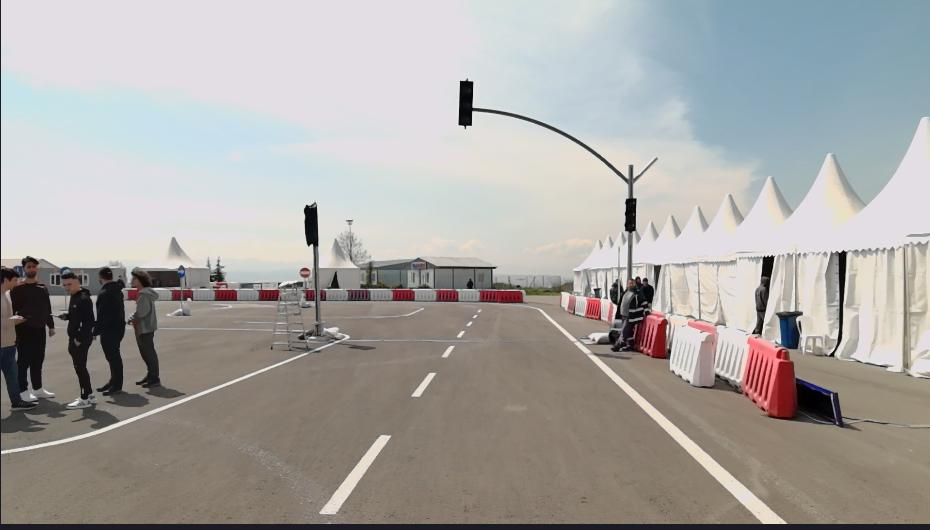nesne: (0, 301, 783, 525), (0, 304, 484, 523), (304, 305, 785, 523), (541, 307, 783, 525), (0, 332, 353, 456), (472, 105, 662, 191), (313, 429, 395, 516), (12, 252, 57, 396), (51, 268, 96, 405), (0, 262, 38, 407), (737, 334, 800, 416), (93, 264, 126, 391), (129, 266, 162, 389), (668, 321, 716, 385), (611, 276, 650, 352), (269, 283, 313, 350), (320, 288, 525, 302), (794, 376, 839, 425), (714, 324, 749, 386), (556, 289, 615, 324), (633, 310, 666, 355), (182, 287, 280, 300), (752, 273, 770, 335), (312, 241, 322, 335), (456, 76, 473, 131), (776, 309, 800, 346), (408, 366, 438, 394), (304, 201, 318, 247), (477, 288, 523, 302), (800, 333, 825, 356), (623, 196, 637, 233), (634, 273, 652, 299), (581, 329, 609, 343), (323, 327, 346, 342), (583, 298, 600, 318), (212, 288, 238, 301), (392, 287, 416, 301), (432, 289, 457, 302), (625, 228, 631, 282), (345, 288, 369, 301), (234, 288, 259, 300), (413, 289, 436, 302), (366, 289, 393, 300), (454, 290, 481, 301), (153, 286, 171, 302), (322, 288, 347, 299), (193, 289, 216, 300), (258, 289, 277, 302), (599, 294, 609, 318), (609, 282, 625, 297), (557, 291, 570, 309), (172, 306, 193, 316), (179, 275, 185, 308), (441, 342, 455, 356), (574, 297, 585, 314), (462, 276, 475, 288), (605, 301, 613, 320), (303, 274, 308, 304), (184, 288, 196, 299), (176, 265, 186, 277), (319, 290, 327, 304), (172, 286, 181, 298), (568, 296, 575, 311), (299, 266, 309, 276)
